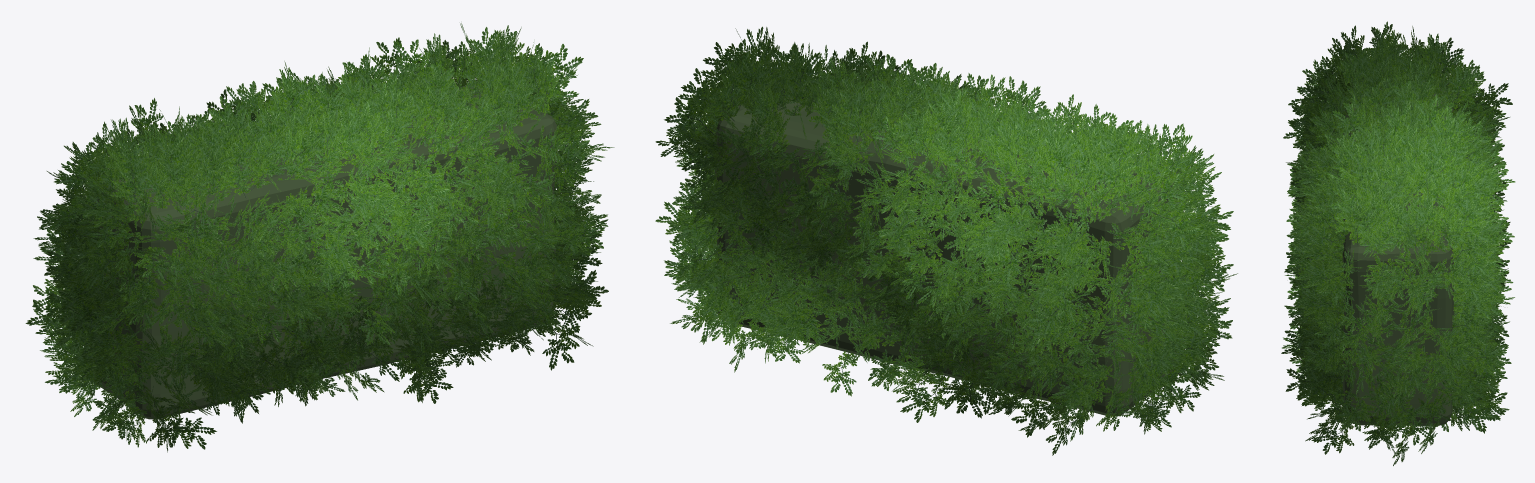
File: hedge_01.glb
3 renders of one model, left to right at view 1: azimuth 30°, elevation 25°; view 2: azimuth 150°, elevation 25°; view 3: azimuth 270°, elevation 25°, orthographic. The views are drawn at different scales.
Visible parts, largest first — view 1: hojas, nucleo; view 2: hojas, nucleo; view 3: hojas, nucleo.
Part boxes in pixels (left/top/right/bottom): hojas: left=25, top=23, right=614, bottom=452; nucleo: left=89, top=81, right=557, bottom=419; hojas: left=655, top=26, right=1237, bottom=455; nucleo: left=715, top=88, right=1177, bottom=416; hojas: left=1281, top=21, right=1515, bottom=465; nucleo: left=1342, top=88, right=1454, bottom=425.
Bounding box in the file's own units: 2.49 × 1.47 × 1.13.
2 materials, 1 textured.
